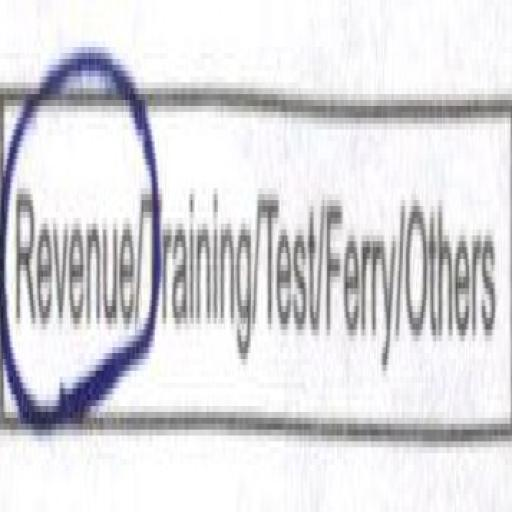check: (0, 12, 141, 453)
